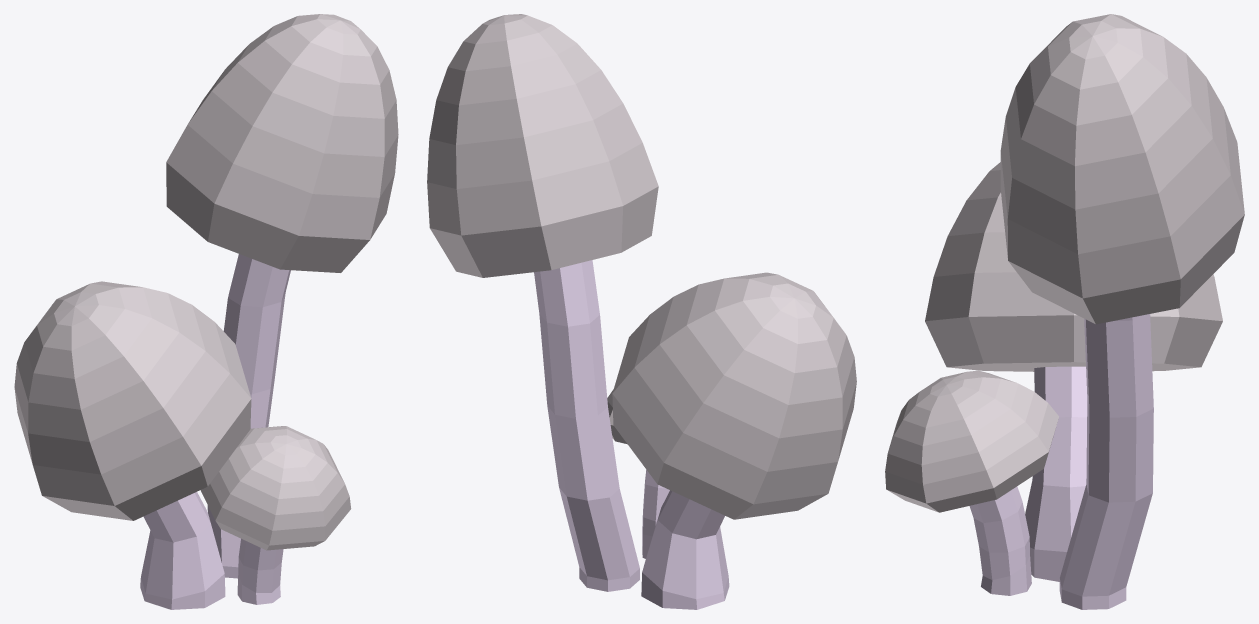
Rendered from Mushroom1.fbx.
3 views of the same model, side by side, from view 1: azimuth 30°, elevation 25°; view 2: azimuth 150°, elevation 25°; view 3: azimuth 270°, elevation 25° (orthographic). The views are drawn at different scales.
Visible parts, largest first — view 1: Mushroom3_Lp; view 2: Mushroom3_Lp; view 3: Mushroom3_Lp.
Boxes of the visible parts, x1=… form: Mushroom3_Lp: x1=14, y1=14, x2=398, y2=609; Mushroom3_Lp: x1=427, y1=14, x2=856, y2=609; Mushroom3_Lp: x1=885, y1=14, x2=1244, y2=609.
Bounding box in the file's own units: 203 × 275 × 143.
